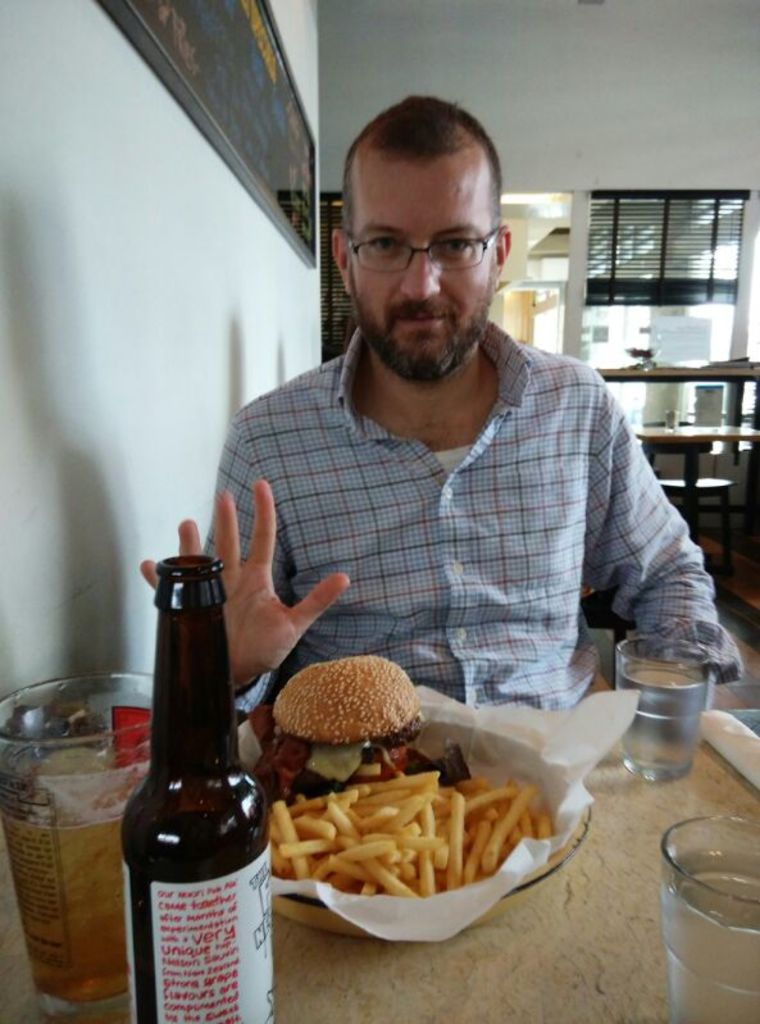French fries: (251, 757, 574, 929)
